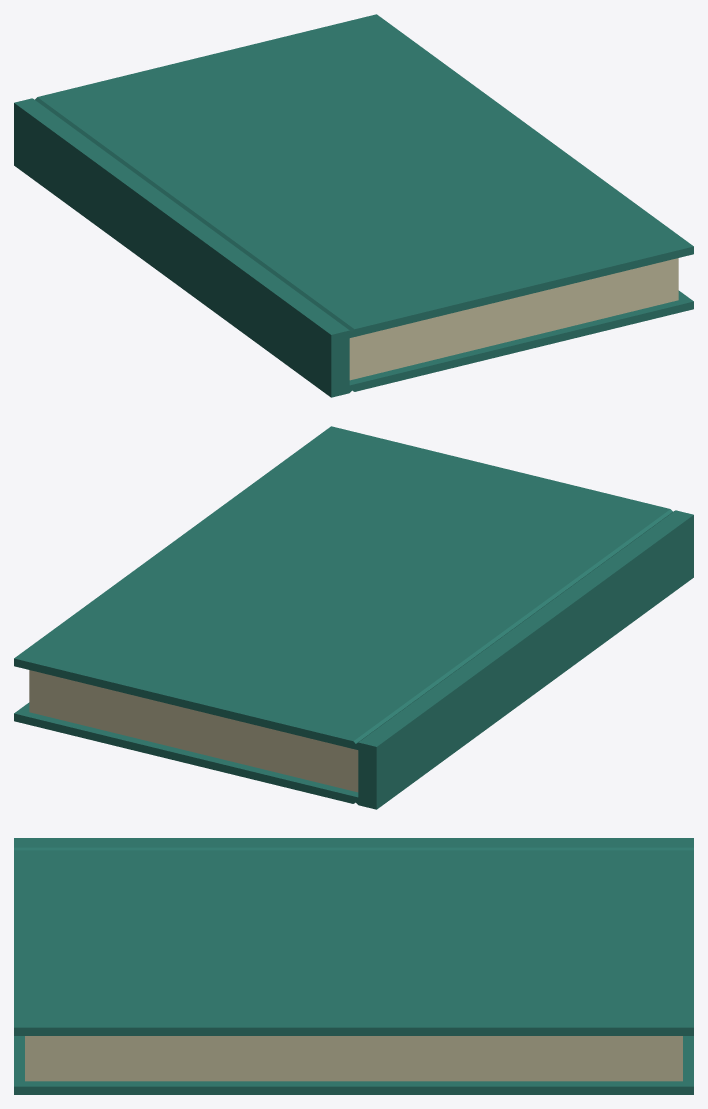
The model's file is Book_Fishing_mat.fbx.
The picture shows the model from 3 angles, top to bottom: view 1: azimuth 30°, elevation 25°; view 2: azimuth 150°, elevation 25°; view 3: azimuth 270°, elevation 25°; orthographic projection. The views are drawn at different scales.
Parts seen in each view (by area): view 1: Book_Fishing_mat; view 2: Book_Fishing_mat; view 3: Book_Fishing_mat.
Boxes of the visible parts, x1,y1,x2,y2 form: Book_Fishing_mat: (14,14,693,397); Book_Fishing_mat: (14,426,693,809); Book_Fishing_mat: (14,838,693,1094).
Size of the model in its own units: 11.52 by 1.91 by 17.45.
